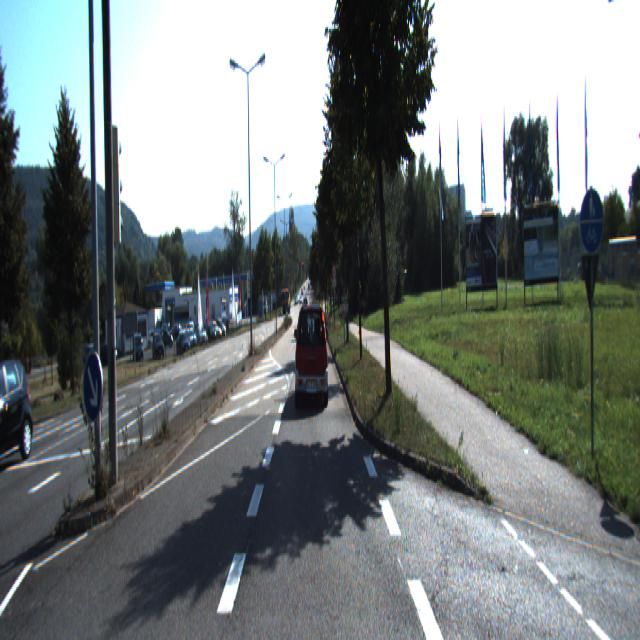Car: (0, 355, 35, 478), (294, 298, 327, 402)
